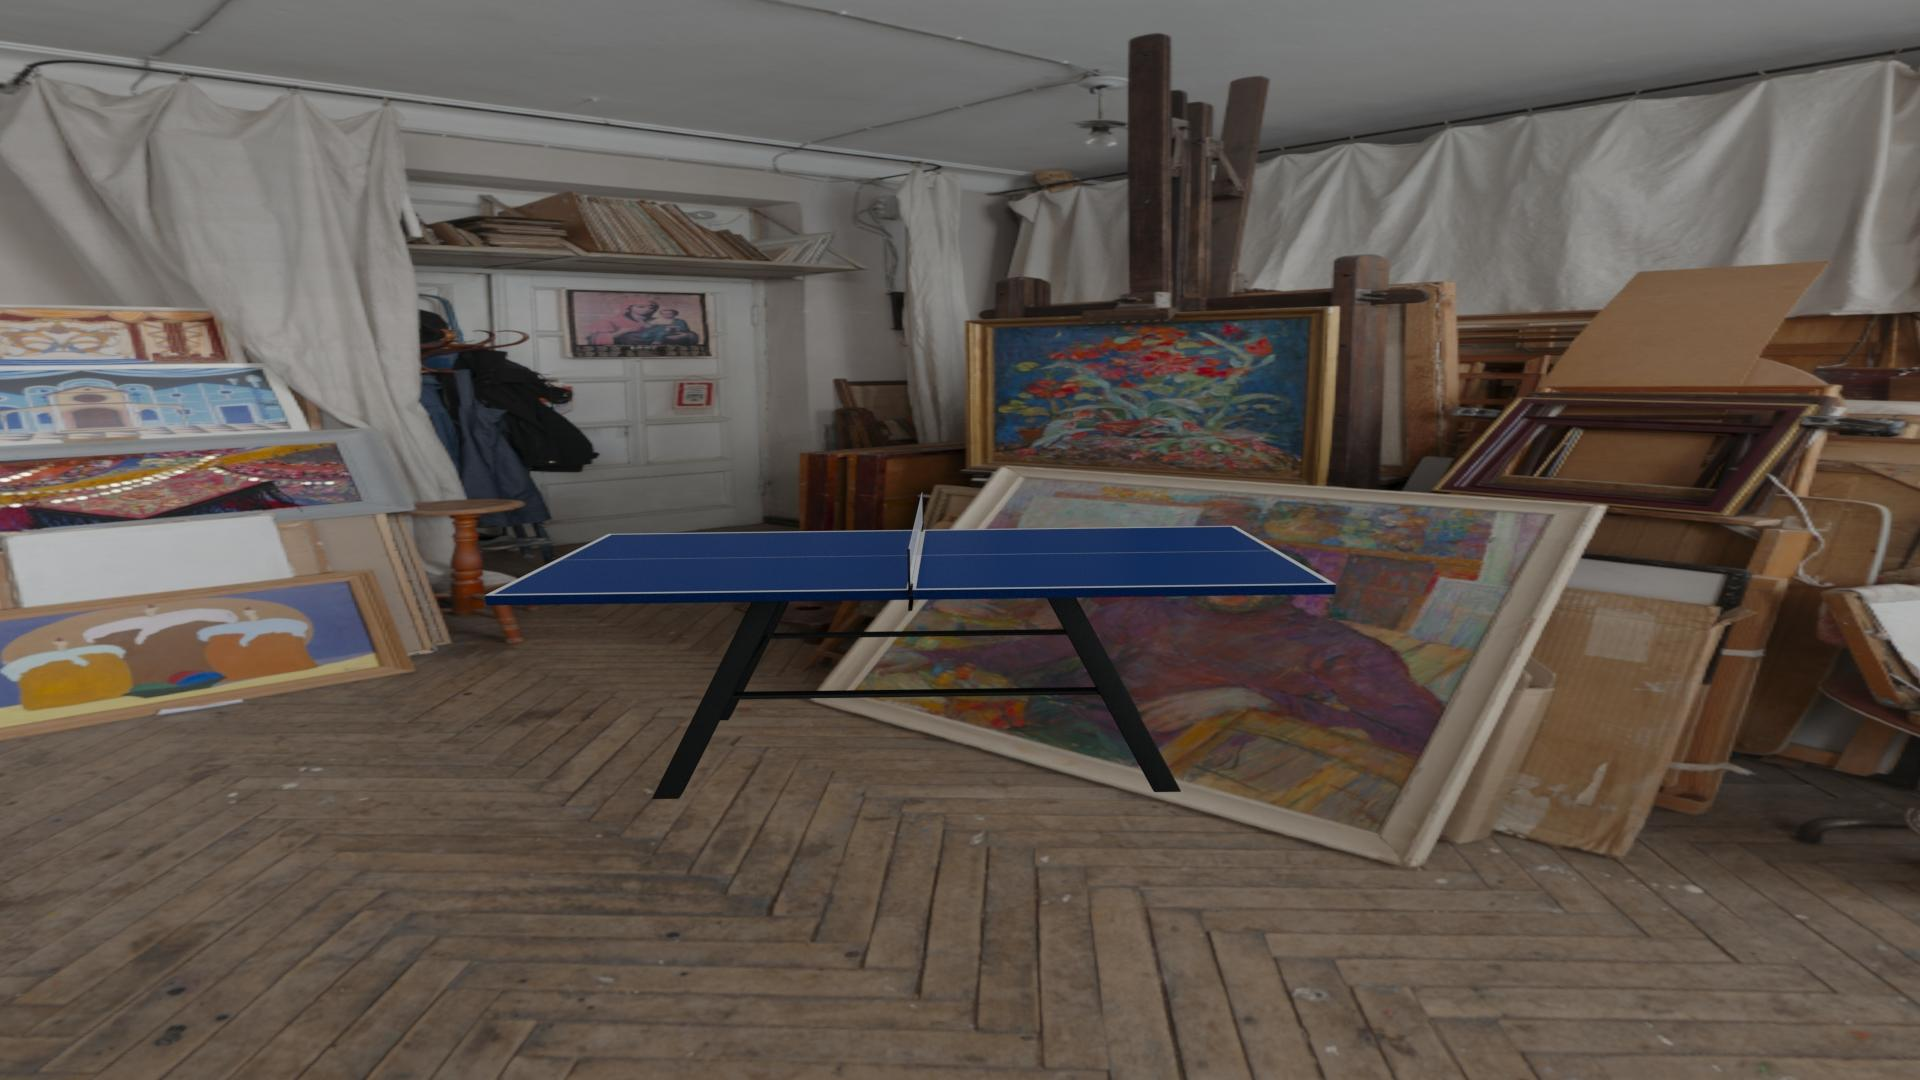table: (493, 526, 1328, 595)
